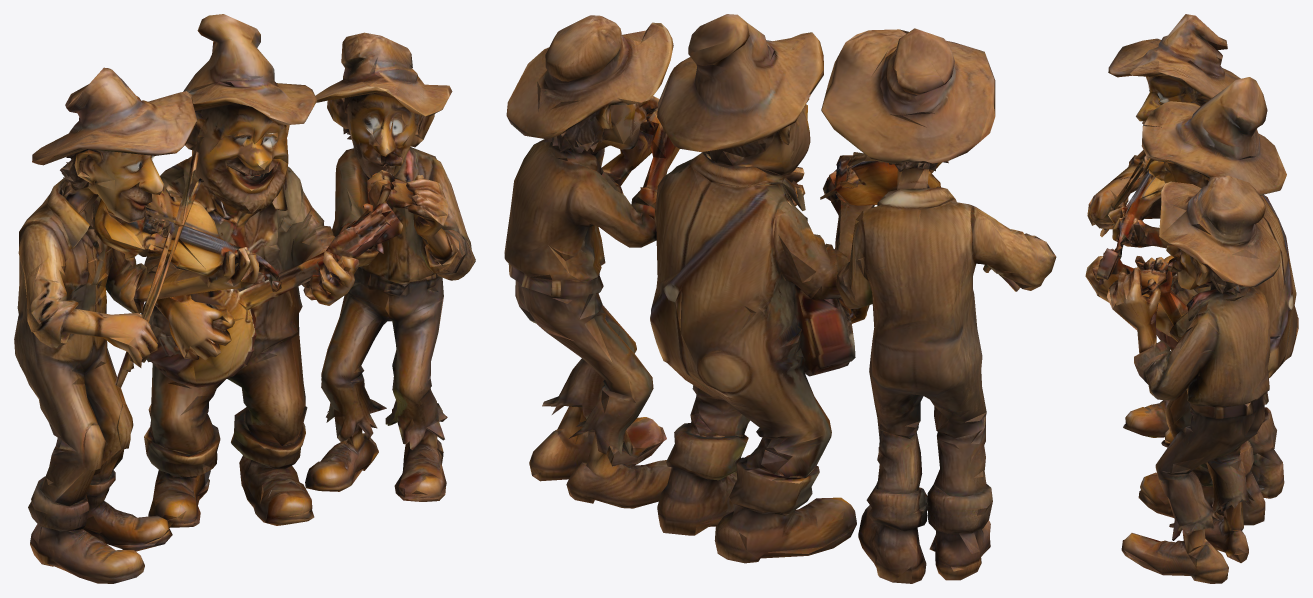
Rendered from trio.glb.
3 renders of one model, left to right at view 1: azimuth 30°, elevation 25°; view 2: azimuth 150°, elevation 25°; view 3: azimuth 270°, elevation 25°, orthographic. The views are drawn at different scales.
Visible parts, largest first — view 1: output_unwrapped; view 2: output_unwrapped; view 3: output_unwrapped.
Boxes of the visible parts, box(x1,y1,x2,y2) form: output_unwrapped: box(14, 14, 475, 583); output_unwrapped: box(504, 14, 1056, 583); output_unwrapped: box(1085, 14, 1298, 583).
Bounding box in the file's own units: 1.8 × 1.83 × 0.8351.
Materials: 1 (1 with a texture image).
